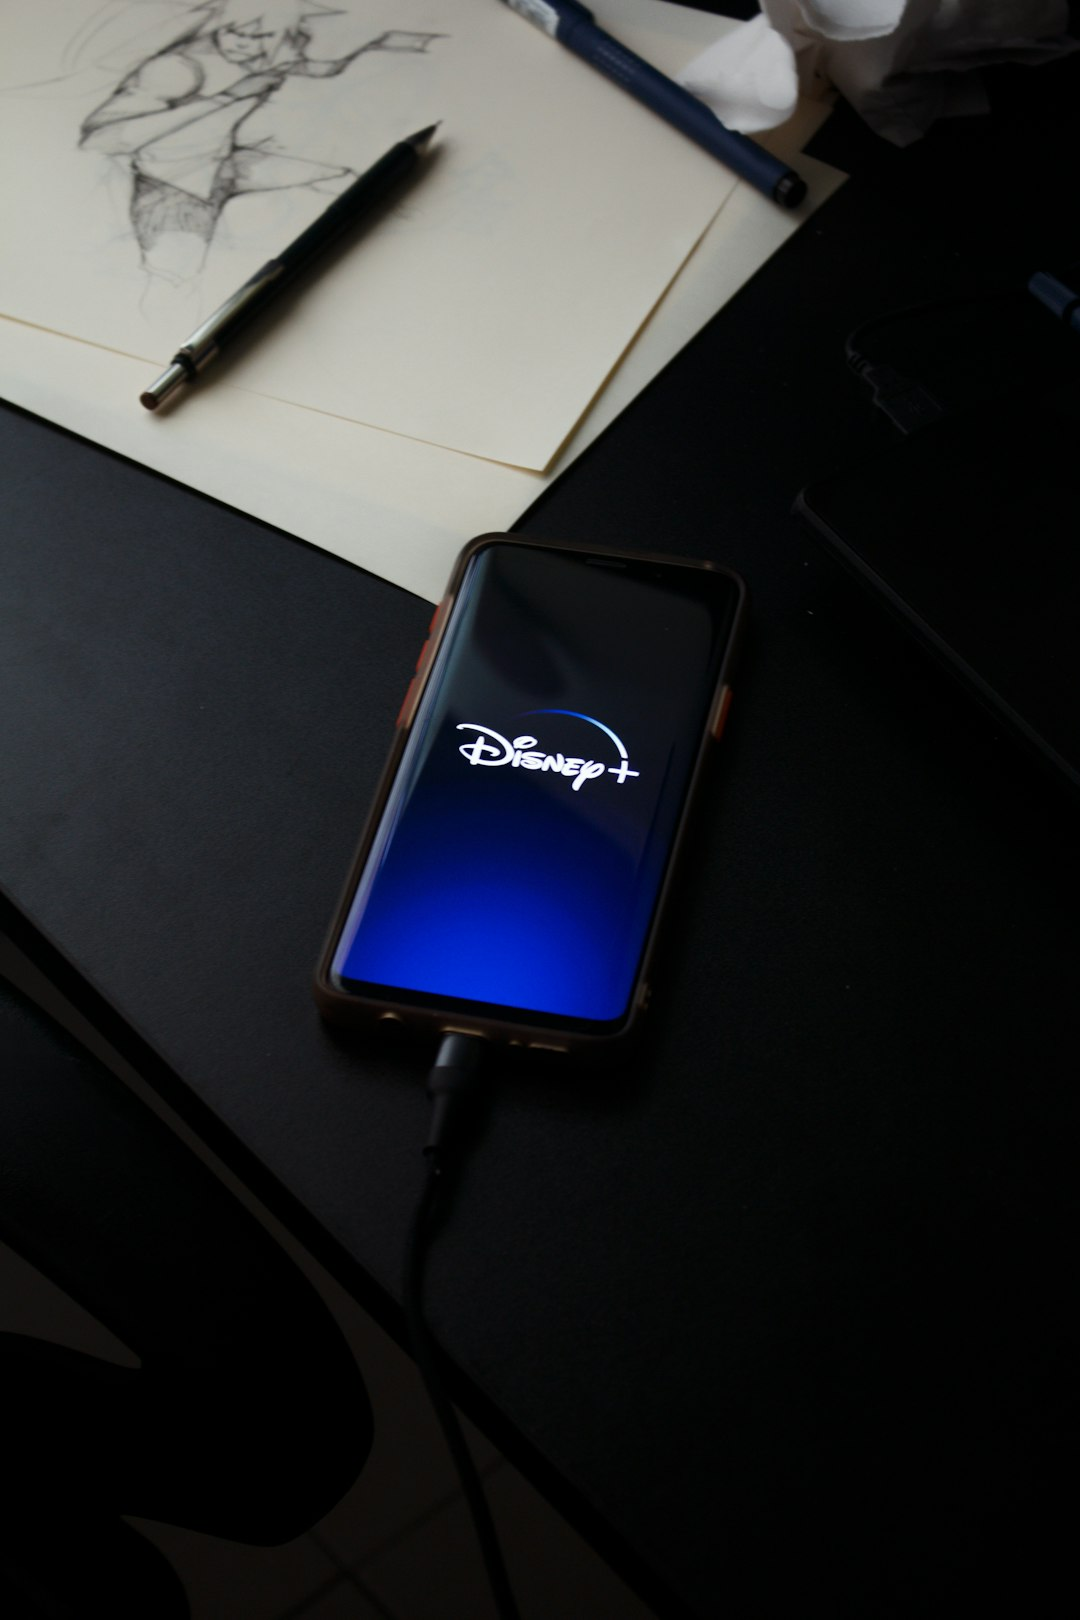phone: (315, 535, 746, 1066)
